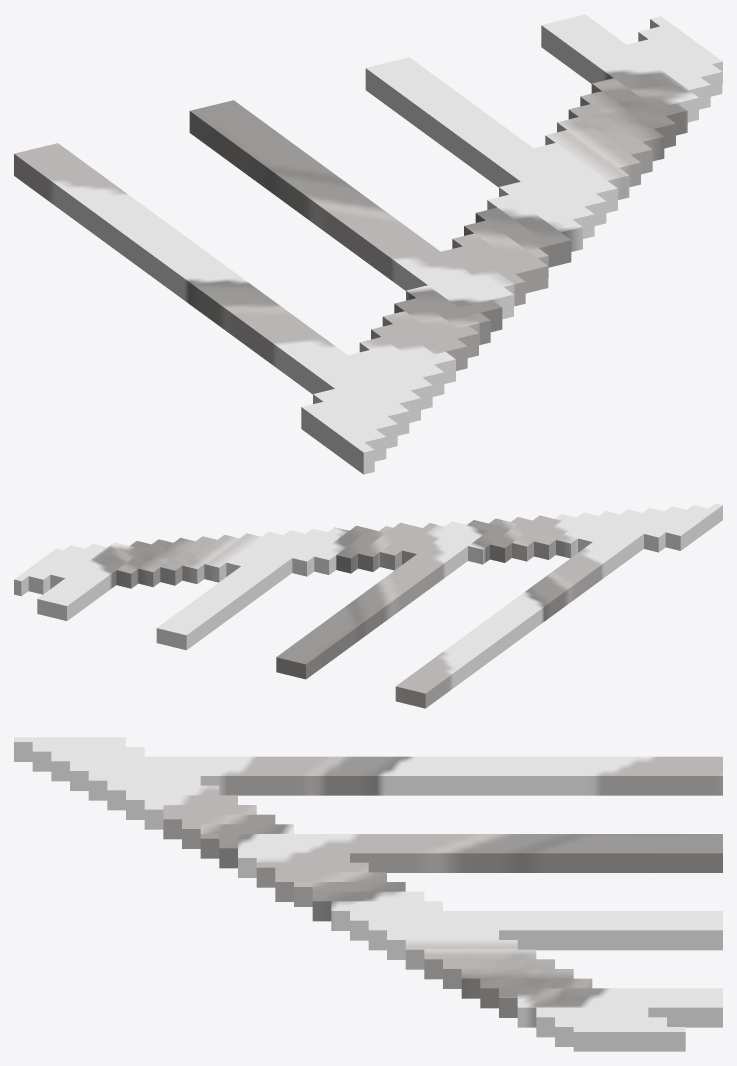
Rendered from rail.obj.
3 views of the same model, one above another, from view 1: azimuth 30°, elevation 25°; view 2: azimuth 150°, elevation 25°; view 3: azimuth 270°, elevation 25° (orthographic). The views are drawn at different scales.
Size of the model in its own units: 0.9531 by 0.03 by 0.9696.
